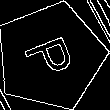P_E: (20, 30, 82, 83)
